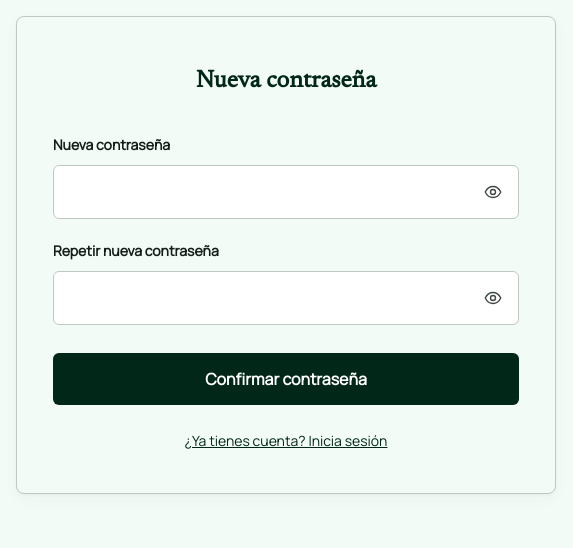
ResetPassword Page - password visibility toggle › toggles repeat password field independently without affecting sibling field (C7)
Type "NuevaClave123!" into the password field labelled "Nueva contraseña" at (286, 192), box [53,165,519,219]
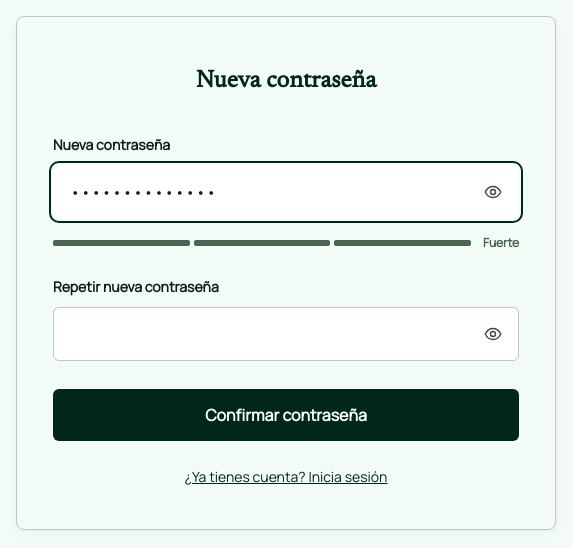
Type "NuevaClave123!" into the password field labelled "Repetir nueva contraseña" at (286, 334), box [53,307,519,361]
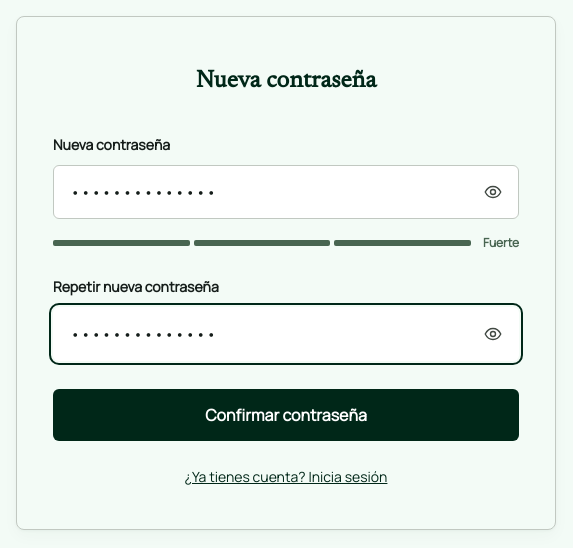
Click the 2nd button named "Mostrar contraseña" at (493, 334), box [479,320,507,348]
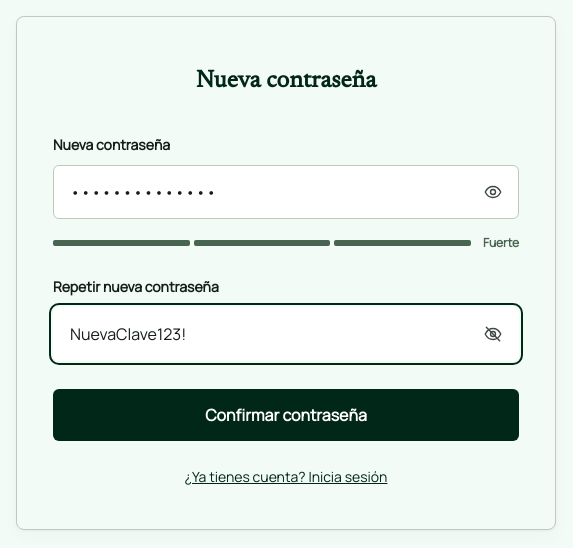
Check: the field labelled "Repetir nueva contraseña" shows its text, box [53,307,519,361]
